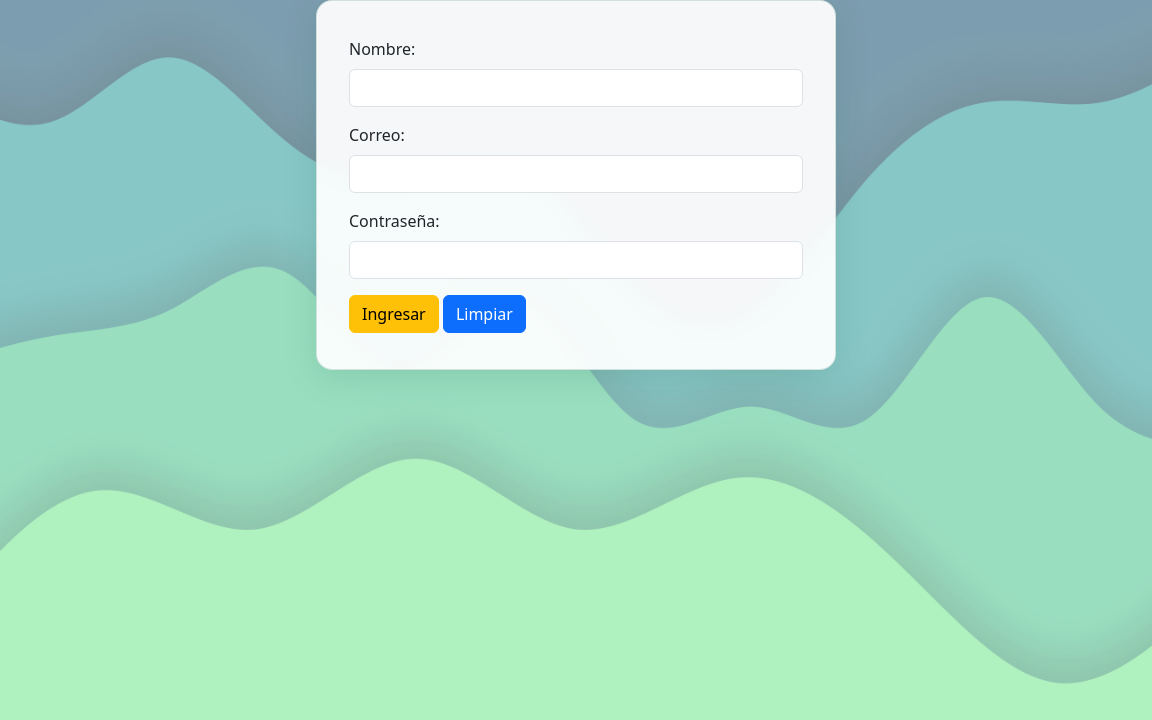
Test: FormularioLogin › PU-003: Debe vaciar los campos y quitar el error al presionar "Limpiar"
In the field labelled "Nombre:": (576, 88) [349,69,803,107], type "admin"
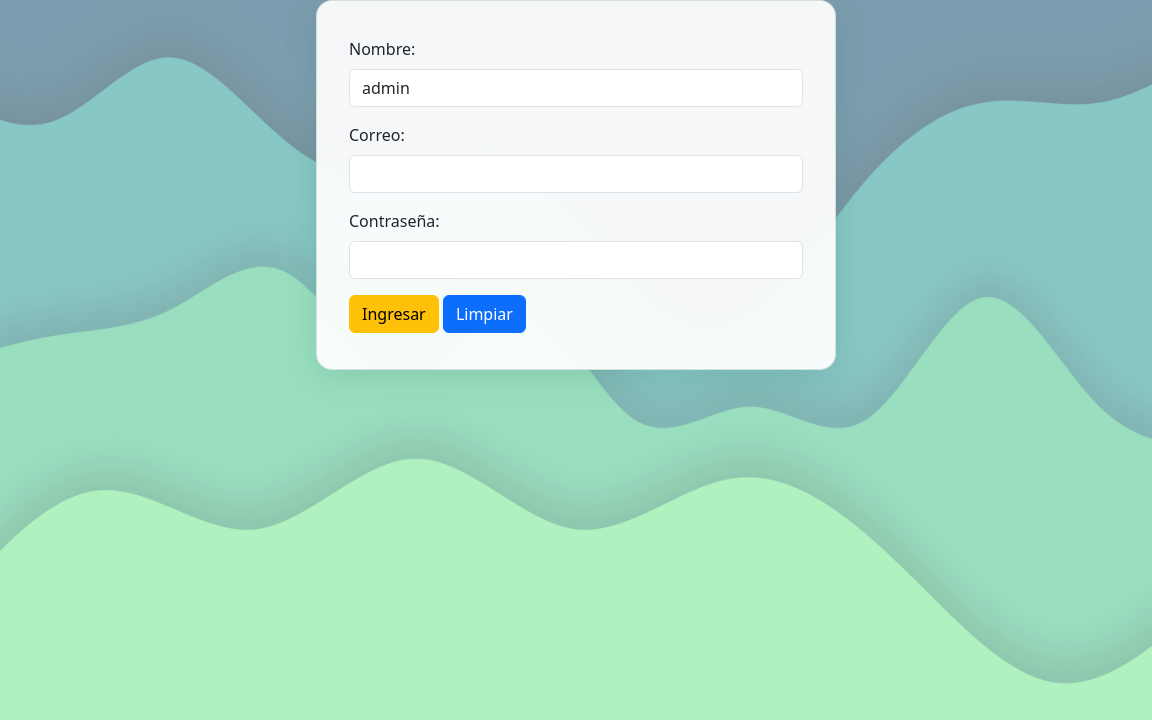
In the field labelled "Correo:": (576, 174) [349,155,803,193], type "admin@gmail.com"
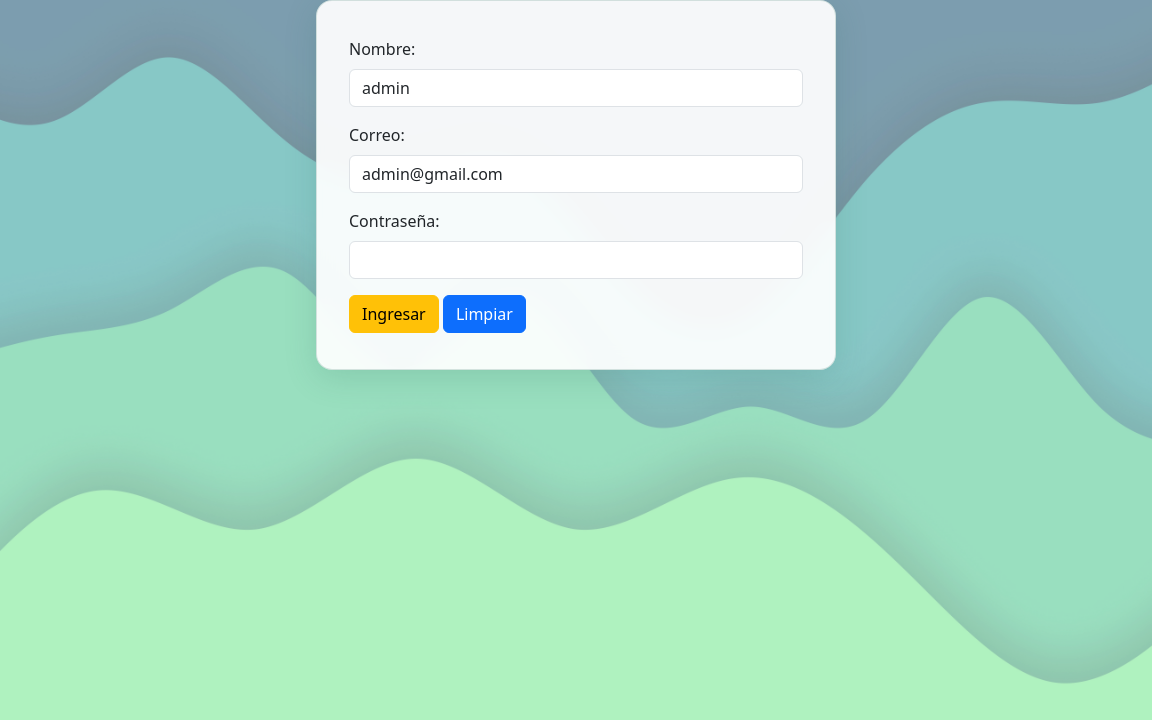
In the password field labelled "Contraseña:": (576, 260) [349,241,803,279], type "incorrecta"
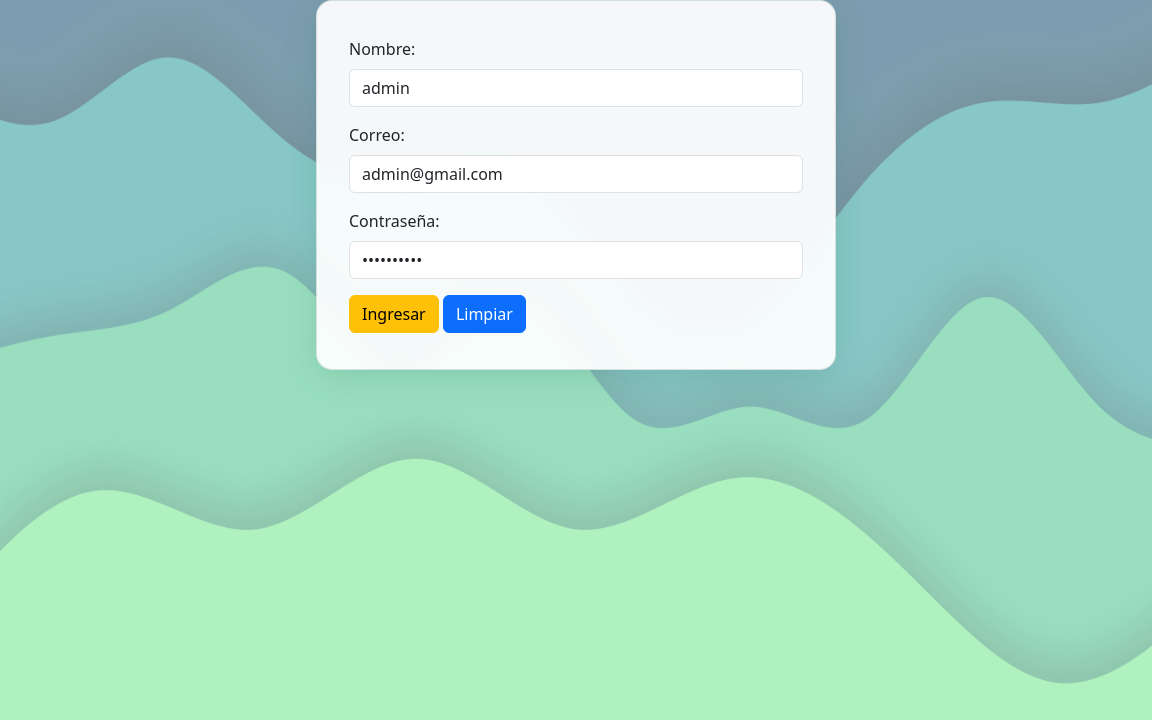
Click the button "Ingresar": click(394, 314) [349,295,439,333]
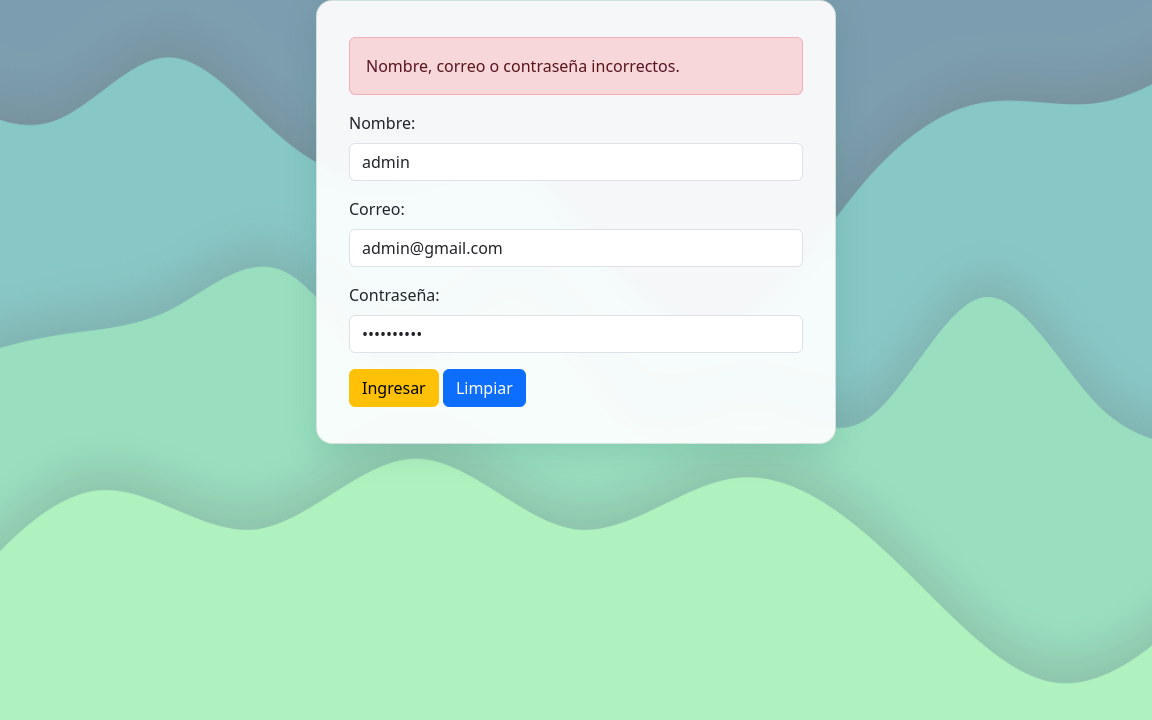
Result: the message "Nombre, correo o contraseña incorrectos." is shown at [349,37,803,95]
Click the button "Limpiar": click(484, 388) [443,369,526,407]
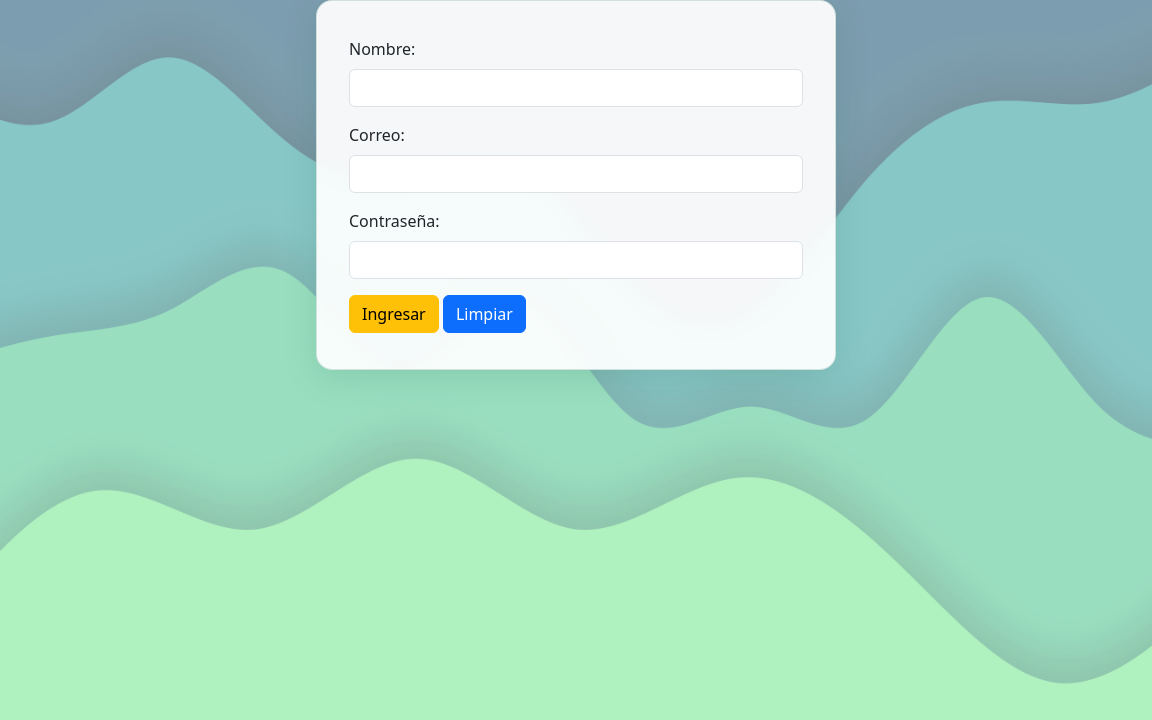
Result: the field labelled "Nombre:" is empty at [349,69,803,107]
Result: the field labelled "Correo:" is empty at [349,155,803,193]
Result: the password field labelled "Contraseña:" is empty at [349,241,803,279]
